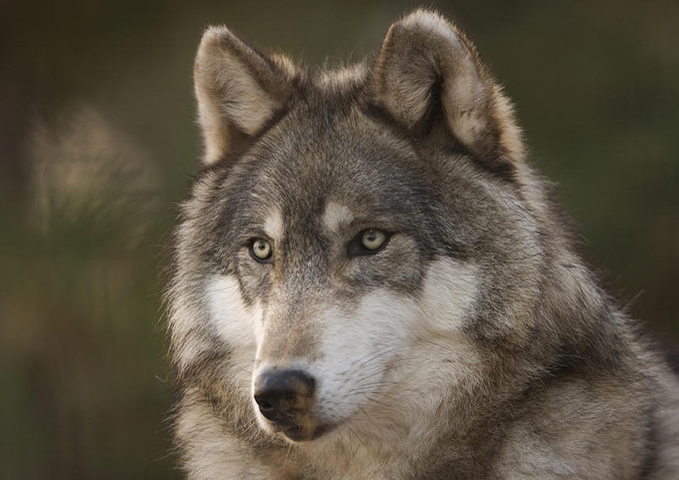Lobo: (149, 13, 602, 472)
